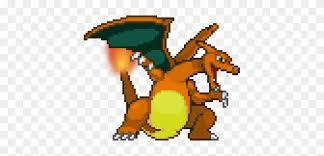charizard: (82, 16, 241, 142)
